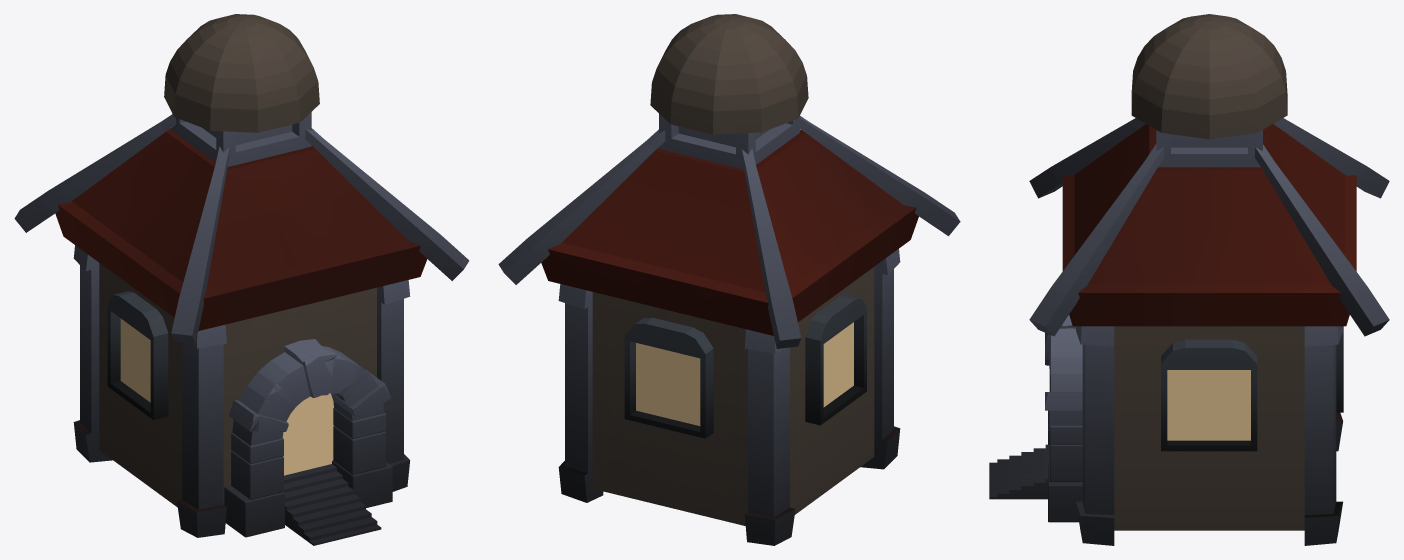
The model's file is house.fbx.
3 renders of one model, left to right at view 1: azimuth 30°, elevation 25°; view 2: azimuth 150°, elevation 25°; view 3: azimuth 270°, elevation 25°, orthographic. The views are drawn at different scales.
Parts seen in each view (by area): view 1: Cube; view 2: Cube; view 3: Cube.
Part boxes in pixels (x1=…): Cube: x1=14, y1=14, x2=469, y2=545; Cube: x1=498, y1=14, x2=960, y2=545; Cube: x1=989, y1=14, x2=1389, y2=545.
Size of the model in its own units: 721 by 1047 by 801.
1 material, 1 textured.
